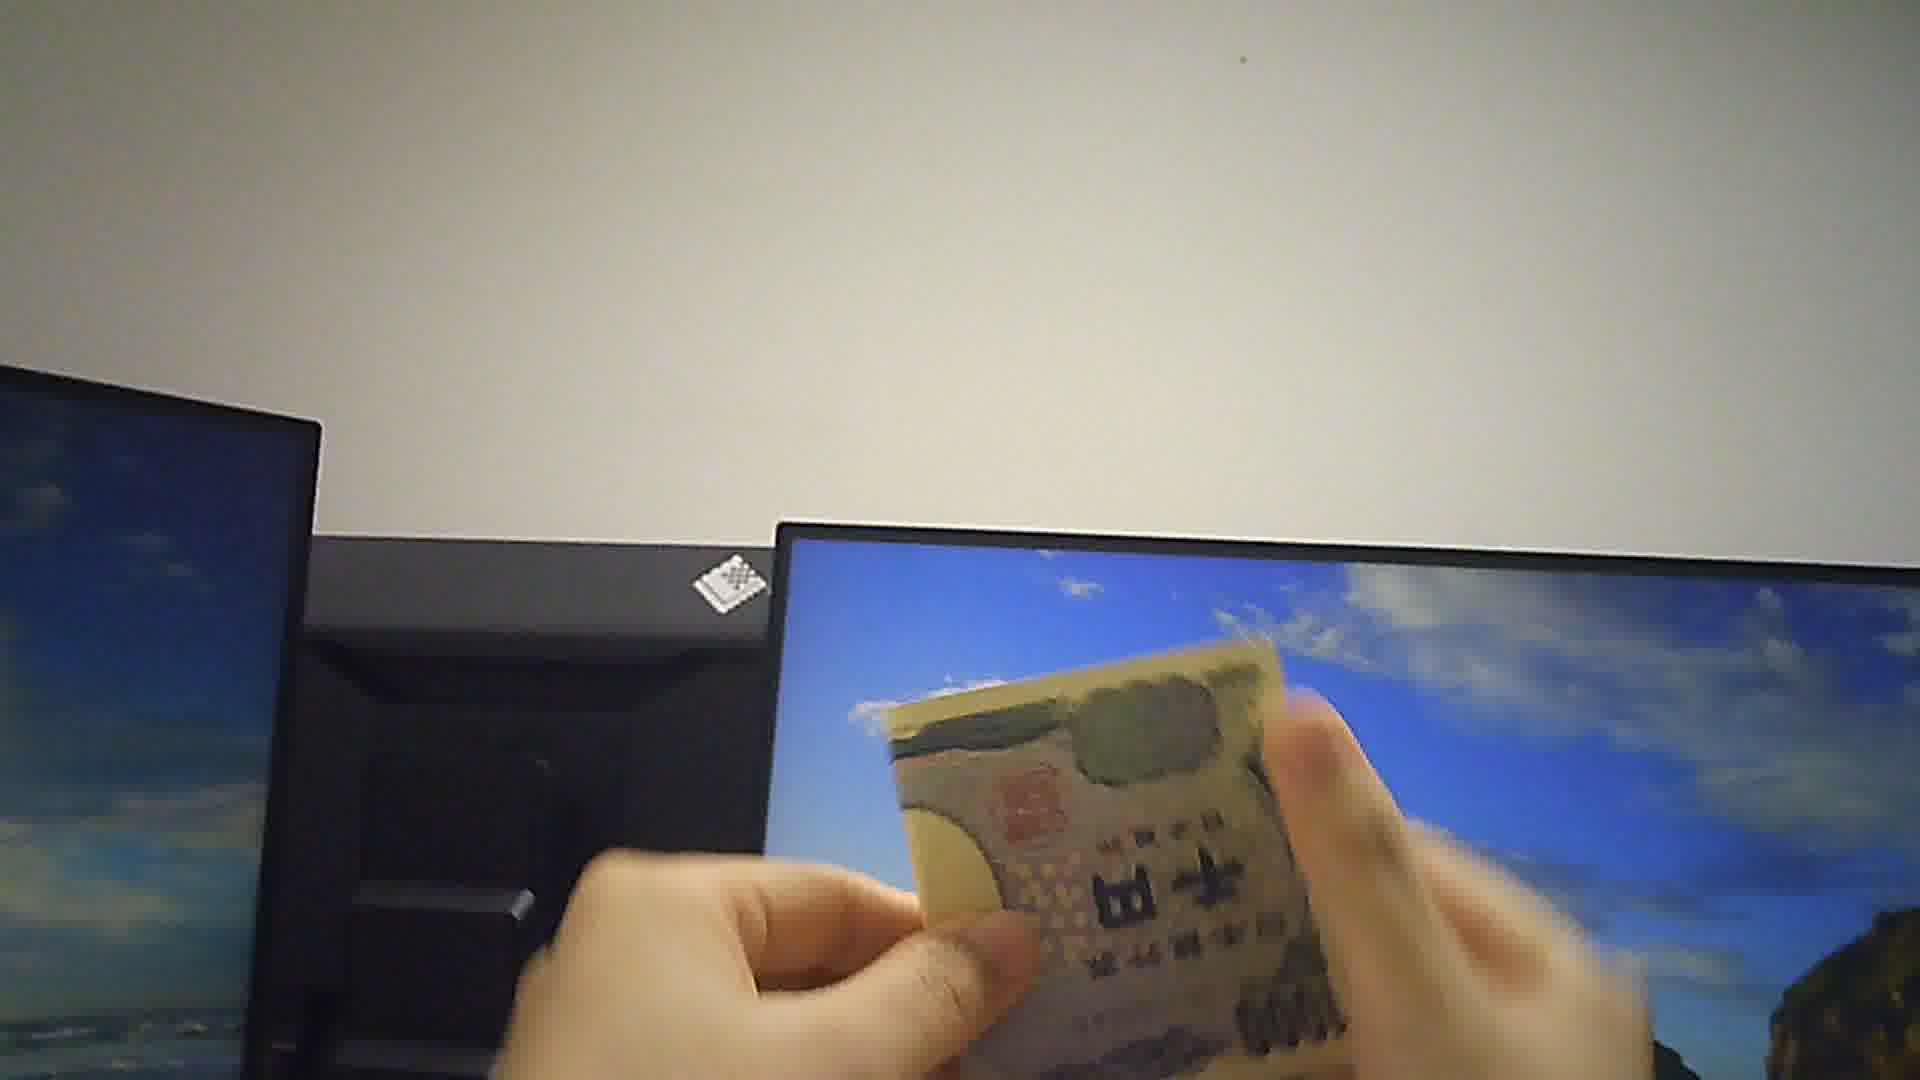1,000 Yen: (874, 651, 1410, 1079)
